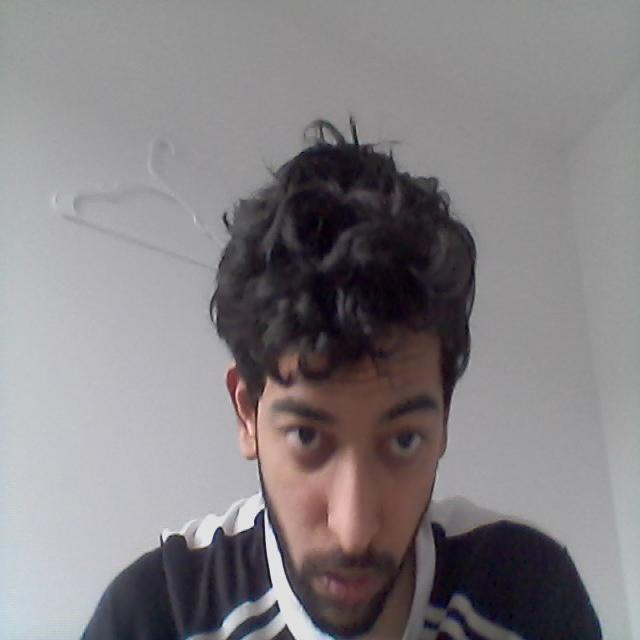nocap: (184, 107, 529, 390)
